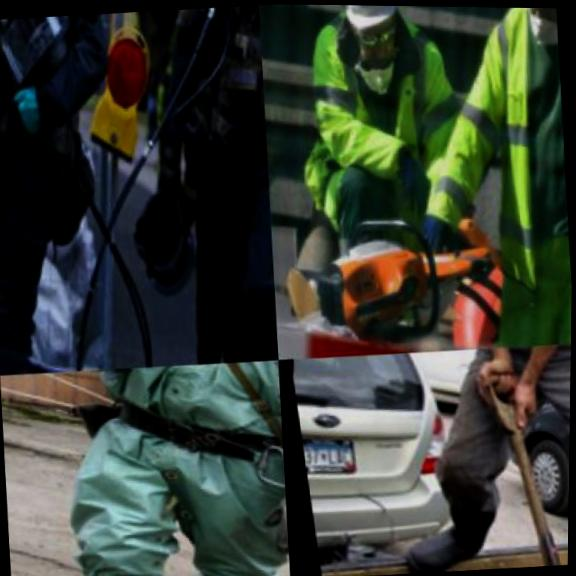safety_vest: (18, 355, 292, 576), (398, 6, 576, 333), (271, 10, 467, 247), (0, 11, 134, 132), (187, 4, 267, 147)
